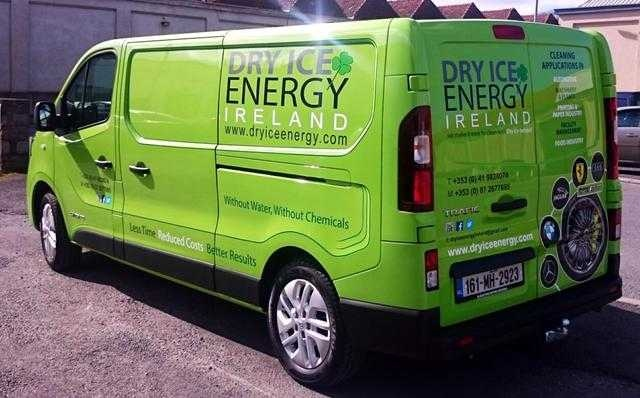van: (27, 18, 624, 387)
